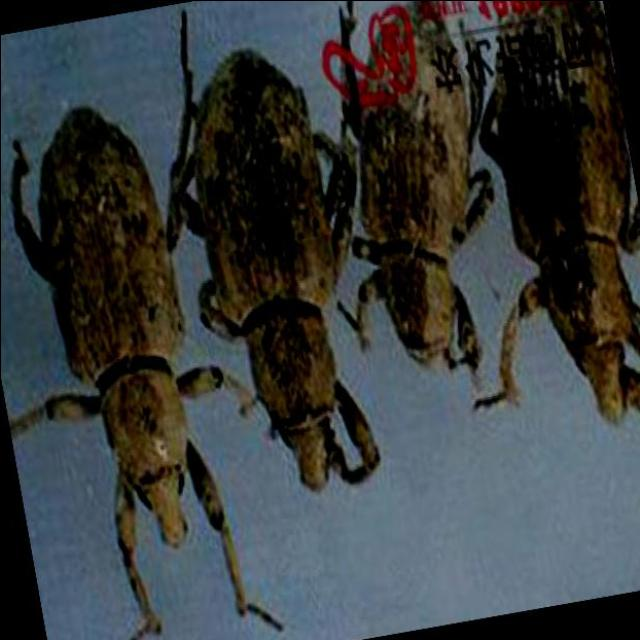ricebug: (9, 108, 280, 640), (183, 52, 378, 492), (473, 0, 640, 424), (322, 0, 493, 374)
